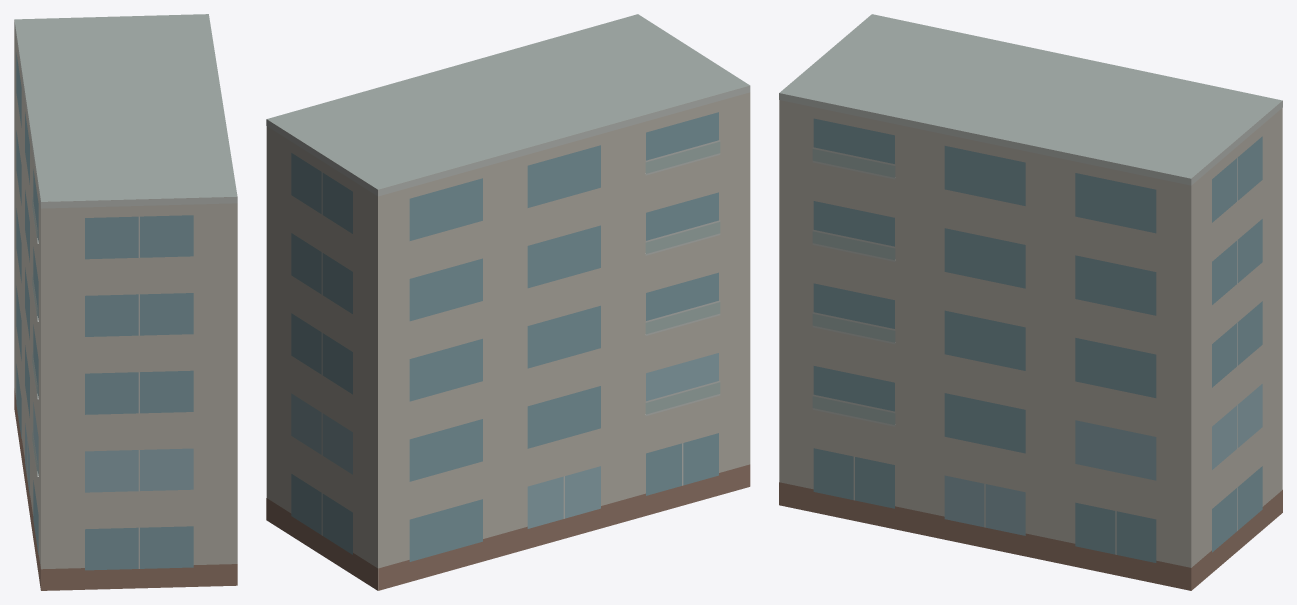
Rendered from survey-upis-32884391.glb.
3 views of the same model, side by side, from view 1: azimuth 30°, elevation 25°; view 2: azimuth 150°, elevation 25°; view 3: azimuth 270°, elevation 25° (orthographic). The views are drawn at different scales.
Visible parts, largest first — view 1: survey-upis-32884391.tmp; view 2: survey-upis-32884391.tmp; view 3: survey-upis-32884391.tmp.
Boxes of the visible parts, x1,y1,x2,y2 form: survey-upis-32884391.tmp: (14,14,237,590); survey-upis-32884391.tmp: (266,14,750,590); survey-upis-32884391.tmp: (779,14,1282,590).
Bounding box in the file's own units: 12.39 × 14.45 × 16.01.
